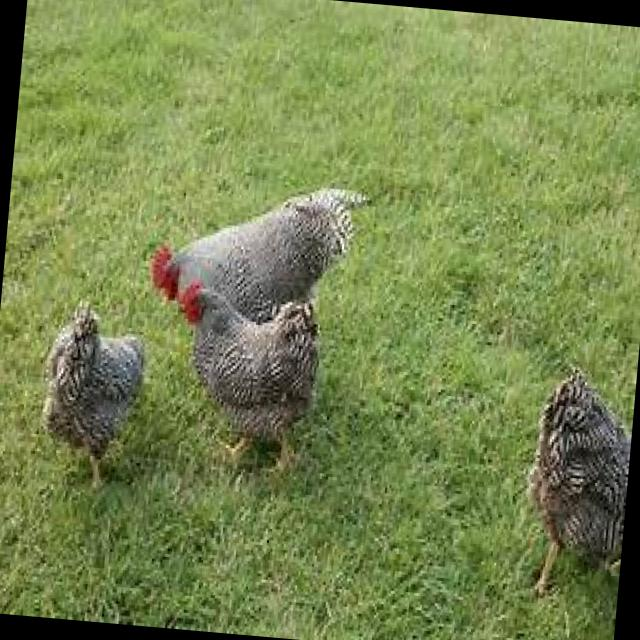animal: (142, 168, 372, 340), (166, 278, 324, 477), (516, 363, 634, 604), (32, 295, 150, 491)
